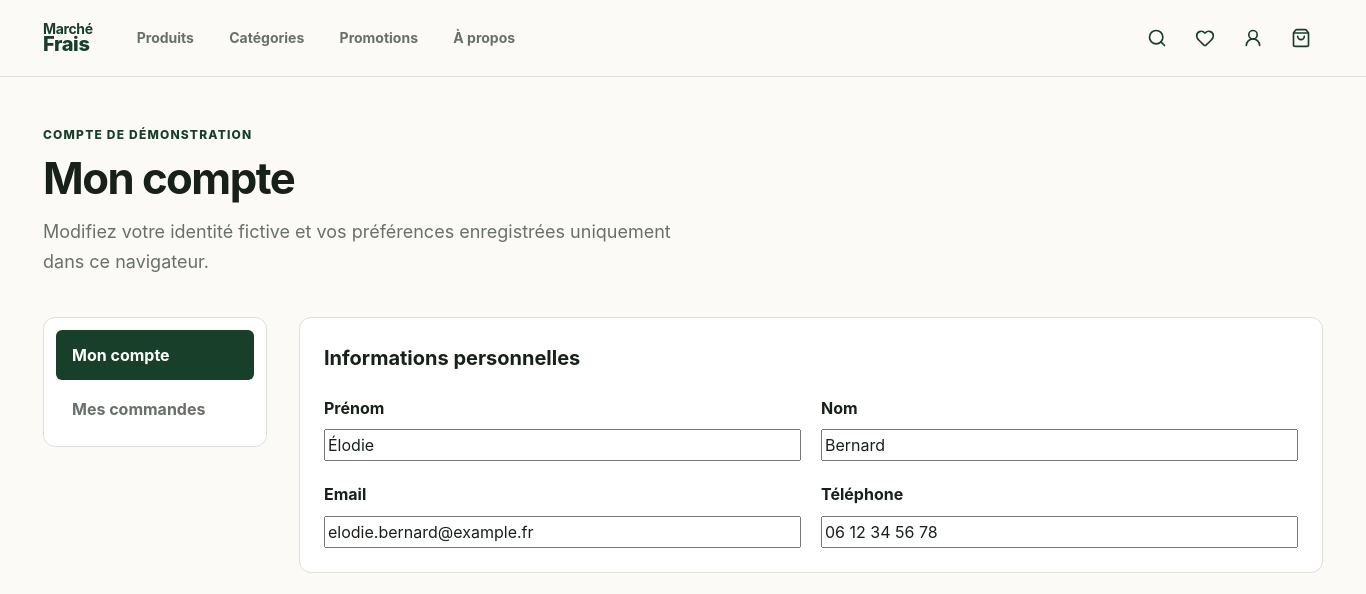
Test: AccountPage › edits, validates and resets the fictitious local profile
This screenshot has width=1366, height=594.
Check: the heading "Mon compte" is shown, box [43,152,294,205]
Check: the text "Compte de démonstration" is shown, box [43,127,252,142]
Replace the text in the field labelled "Email" with "incorrect": (562, 532) [324,516,801,548]
(page scrolled)
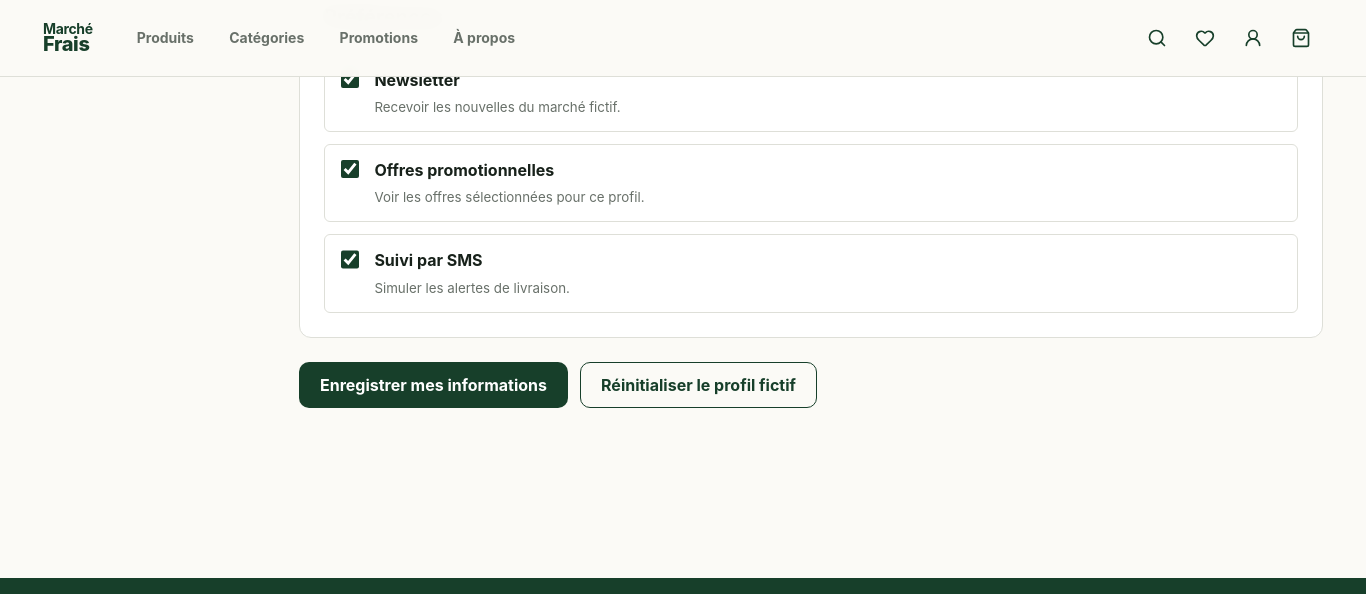
Click the button "Enregistrer mes informations": click(434, 385) [299,362,568,408]
(page scrolled)
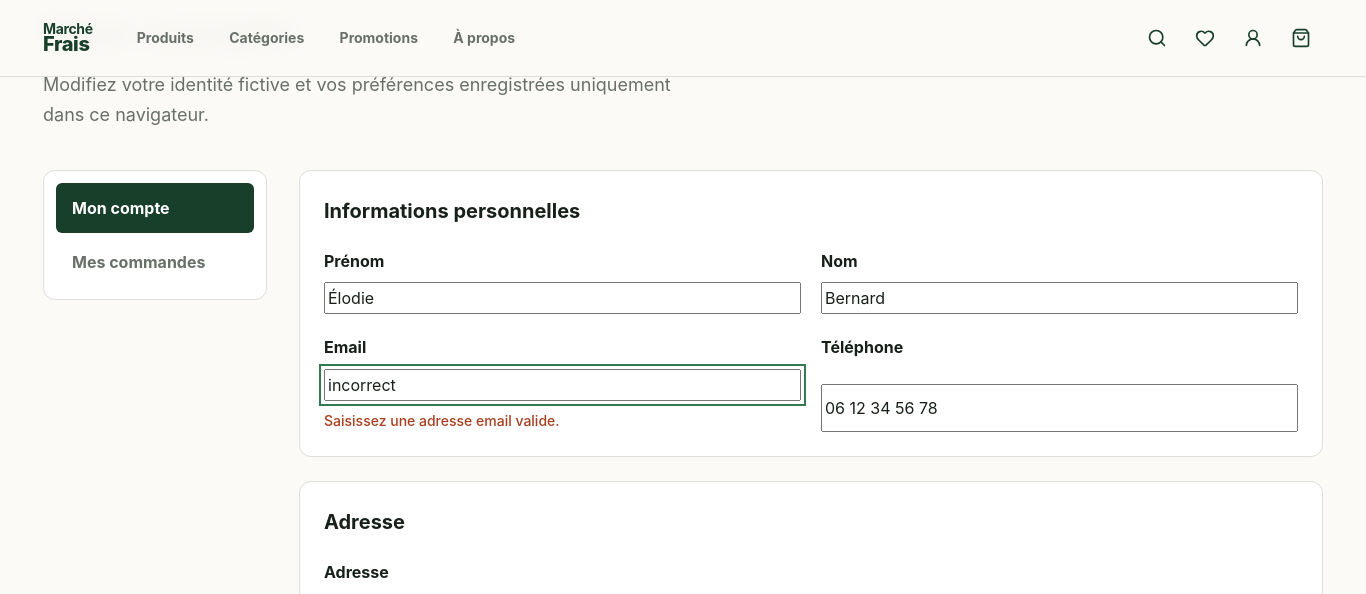
Check: the text "Saisissez une adresse email valide." is shown, box [324,412,560,429]
Replace the text in the field labelled "Email" with "camille@example.fr": (562, 385) [324,369,801,401]
(page scrolled)
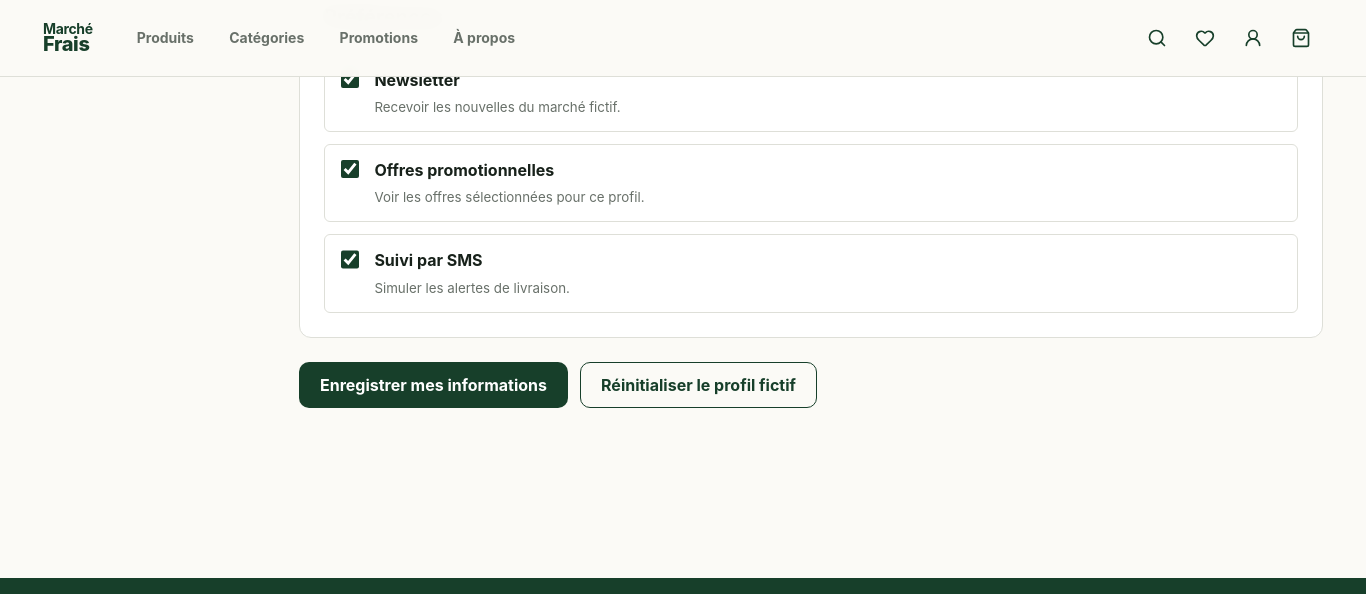
Click the button "Enregistrer mes informations": click(434, 385) [299,362,568,408]
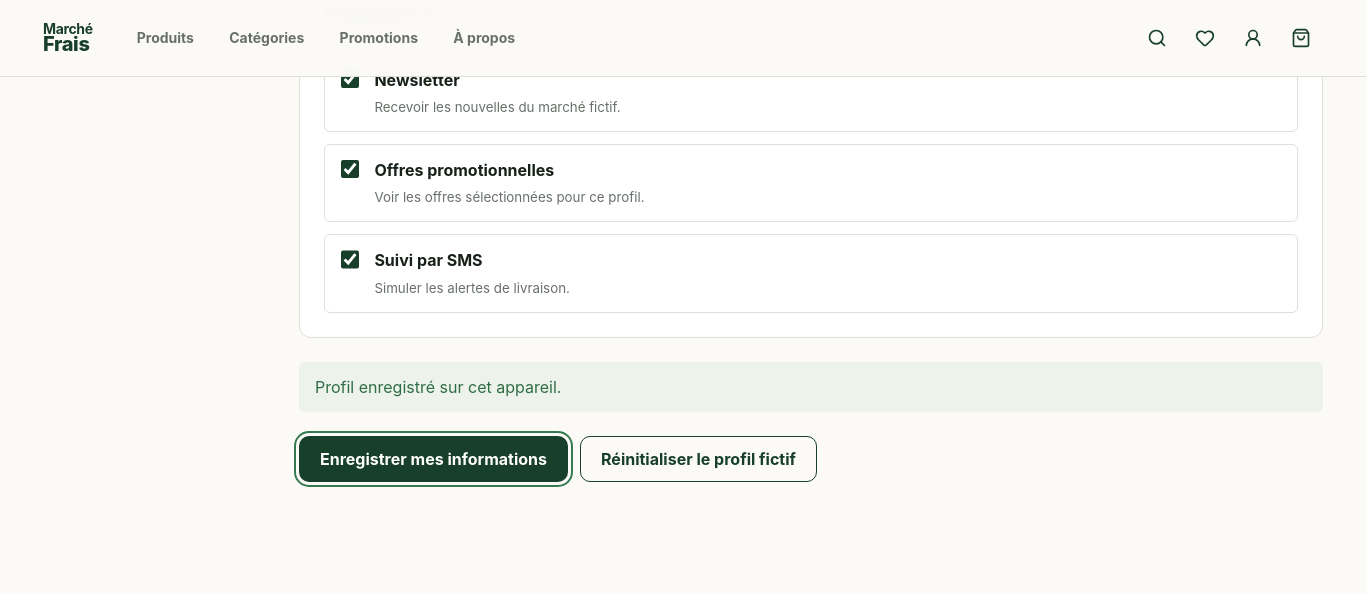
Check: the message shows "Profil enregistré", box [315,377,561,397]
Click the button "Réinitialiser le profil fictif": click(698, 459) [580,436,817,482]
(page scrolled)
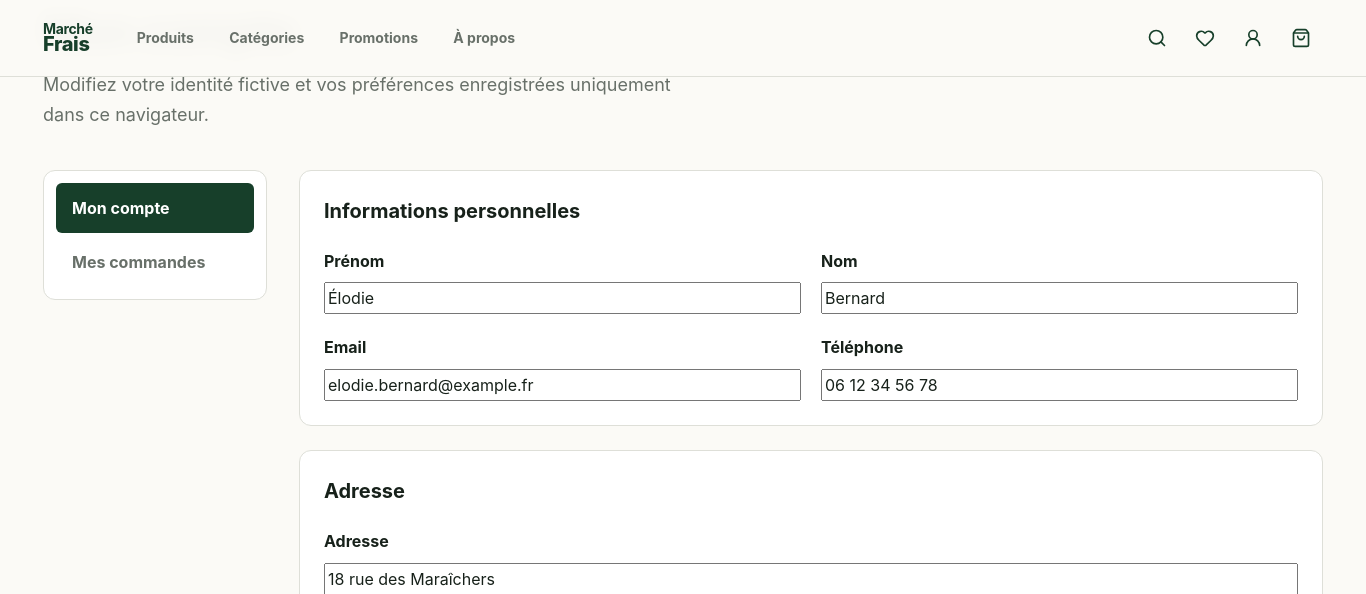
Check: the field labelled "Email" holds "elodie.bernard@example.fr", box [324,369,801,401]
